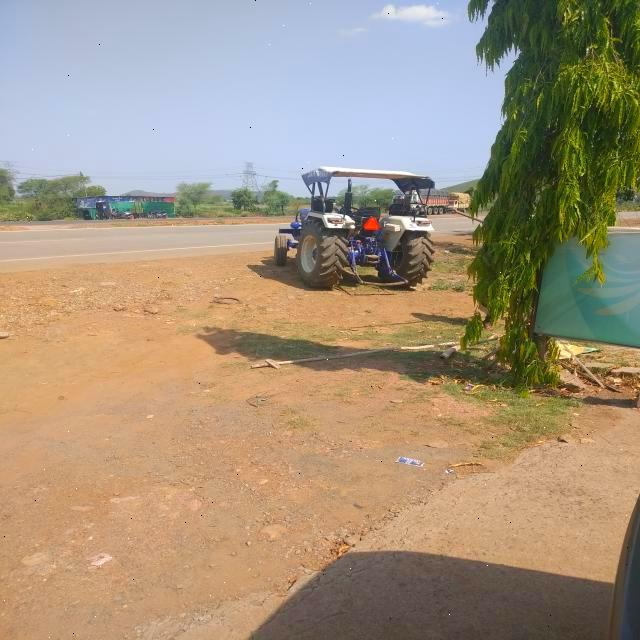Tratores - v5 YOLO V8L 2024-11-13: (272, 170, 438, 290)
